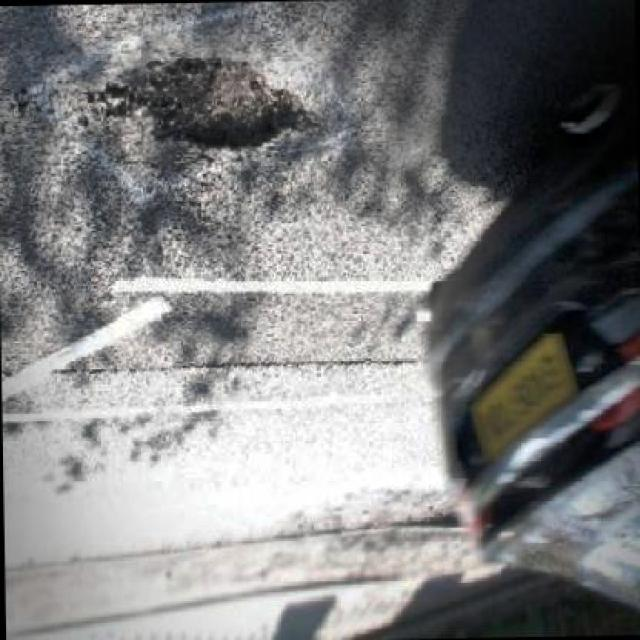pothole: (102, 54, 320, 151)
